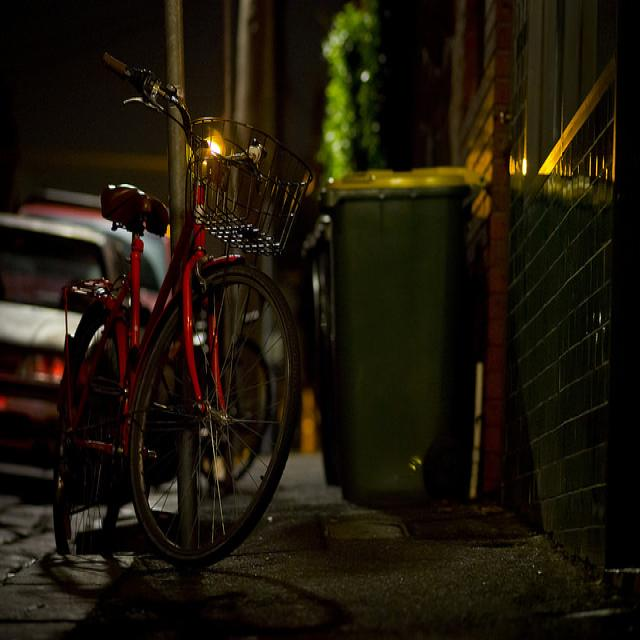Bicycle: (18, 74, 335, 596)
